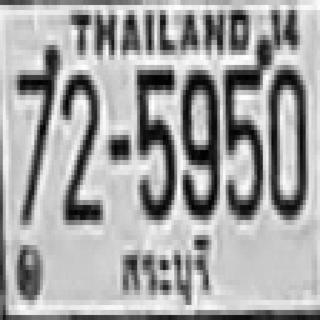N00: (267, 65, 304, 215)
N02: (60, 70, 100, 220)
N05: (134, 68, 174, 218), (224, 65, 261, 215)
N07: (14, 42, 57, 222)
N09: (180, 65, 217, 215)
P60: (113, 236, 215, 310)
